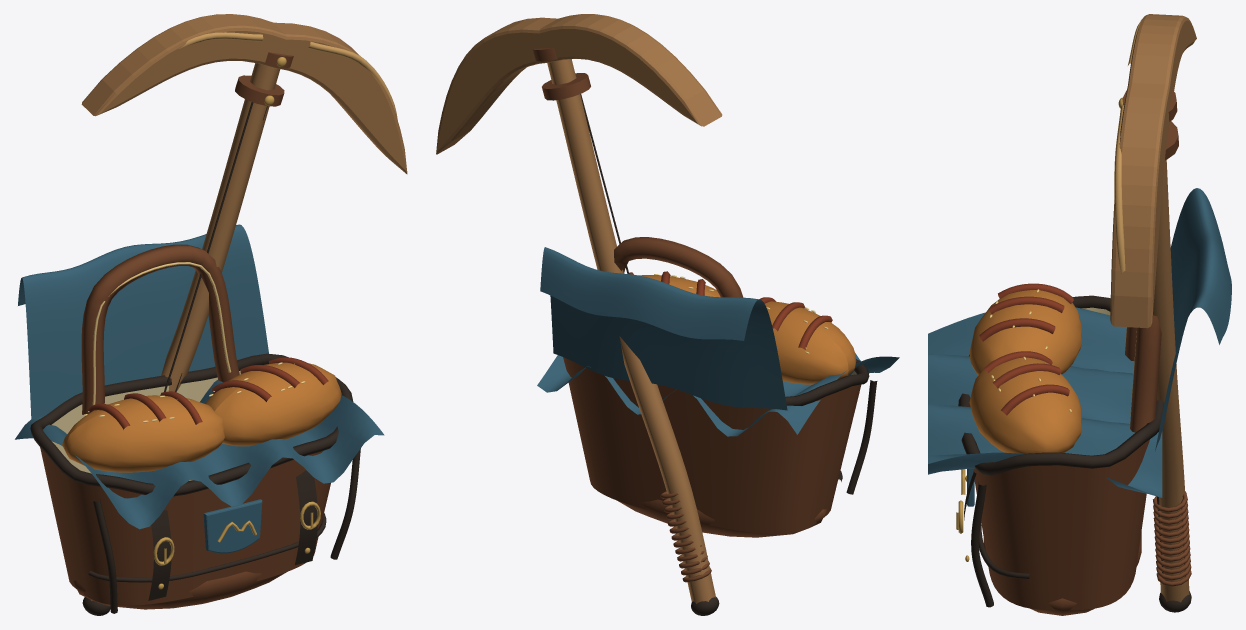
Rendered from tradesmans_kit.glb.
The picture shows the model from 3 angles, left to right: view 1: azimuth 30°, elevation 25°; view 2: azimuth 150°, elevation 25°; view 3: azimuth 270°, elevation 25°; orthographic projection. The views are drawn at different scales.
Parts seen in each view (by area): view 1: kit-batch-dyed-linen, kit-batch-saddle-leather, kit-batch-baked-crust, kit-batch-tool-head, kit-batch-seams-and-grip, kit-batch-oiled-ash, kit-batch-roasted-meal, kit-batch-cream-lining, kit-batch-tool-edge, kit-batch-aged-brass, kit-batch-waxed-thread; view 2: kit-batch-saddle-leather, kit-batch-dyed-linen, kit-batch-tool-head, kit-batch-oiled-ash, kit-batch-baked-crust, kit-batch-seams-and-grip, kit-batch-roasted-meal; view 3: kit-batch-saddle-leather, kit-batch-dyed-linen, kit-batch-tool-head, kit-batch-baked-crust, kit-batch-oiled-ash, kit-batch-seams-and-grip, kit-batch-roasted-meal, kit-batch-tool-edge, kit-batch-aged-brass.
Boxes of the visible parts, x1,y1,x2,y2 form: kit-batch-dyed-linen: (15, 224, 384, 553); kit-batch-saddle-leather: (40, 52, 330, 609); kit-batch-baked-crust: (62, 362, 341, 472); kit-batch-tool-head: (81, 14, 407, 174); kit-batch-seams-and-grip: (30, 102, 360, 615); kit-batch-oiled-ash: (91, 63, 280, 600); kit-batch-roasted-meal: (88, 357, 328, 429); kit-batch-cream-lining: (51, 370, 240, 480); kit-batch-tool-edge: (179, 32, 397, 119); kit-batch-aged-brass: (153, 57, 320, 589); kit-batch-waxed-thread: (92, 262, 231, 405); kit-batch-saddle-leather: (532, 47, 861, 582); kit-batch-dyed-linen: (537, 247, 899, 436); kit-batch-tool-head: (436, 14, 722, 154); kit-batch-oiled-ash: (547, 59, 715, 603); kit-batch-baked-crust: (639, 275, 856, 384); kit-batch-seams-and-grip: (580, 94, 877, 615); kit-batch-roasted-meal: (629, 271, 832, 349); kit-batch-saddle-leather: (972, 90, 1191, 615); kit-batch-dyed-linen: (928, 188, 1231, 506); kit-batch-tool-head: (1110, 14, 1196, 328); kit-batch-baked-crust: (969, 290, 1082, 454); kit-batch-oiled-ash: (1153, 160, 1189, 602); kit-batch-seams-and-grip: (958, 295, 1191, 612); kit-batch-roasted-meal: (979, 283, 1073, 415); kit-batch-tool-edge: (1114, 18, 1142, 273); kit-batch-aged-brass: (956, 97, 1122, 561).
Bounding box in the file's own units: 0.7793 × 1.1 × 0.4732.
